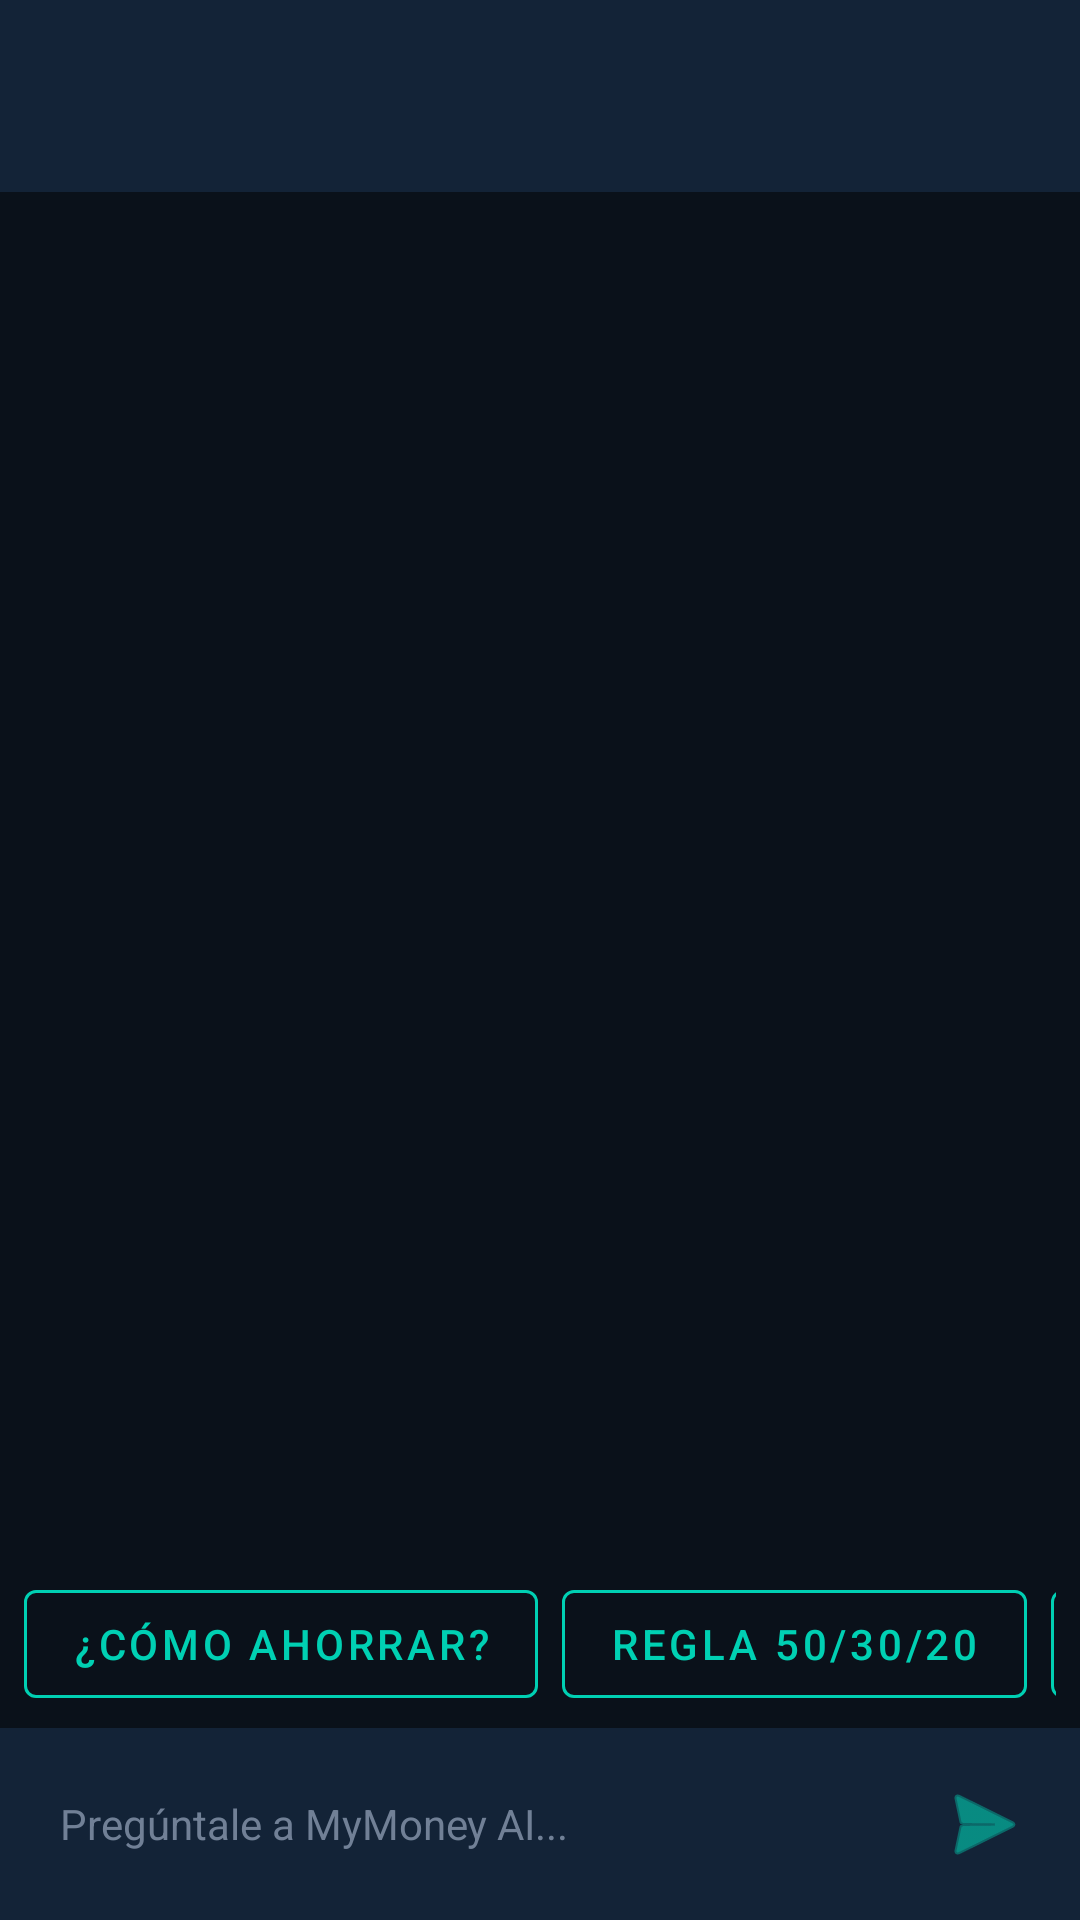

Icon click points for this 1080 × 1920 phone screenshot, format (x=x, y=y):
Enviar mensaje: (x=984, y=1824)
